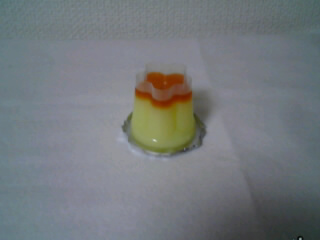001_classes: (110, 57, 212, 157)
